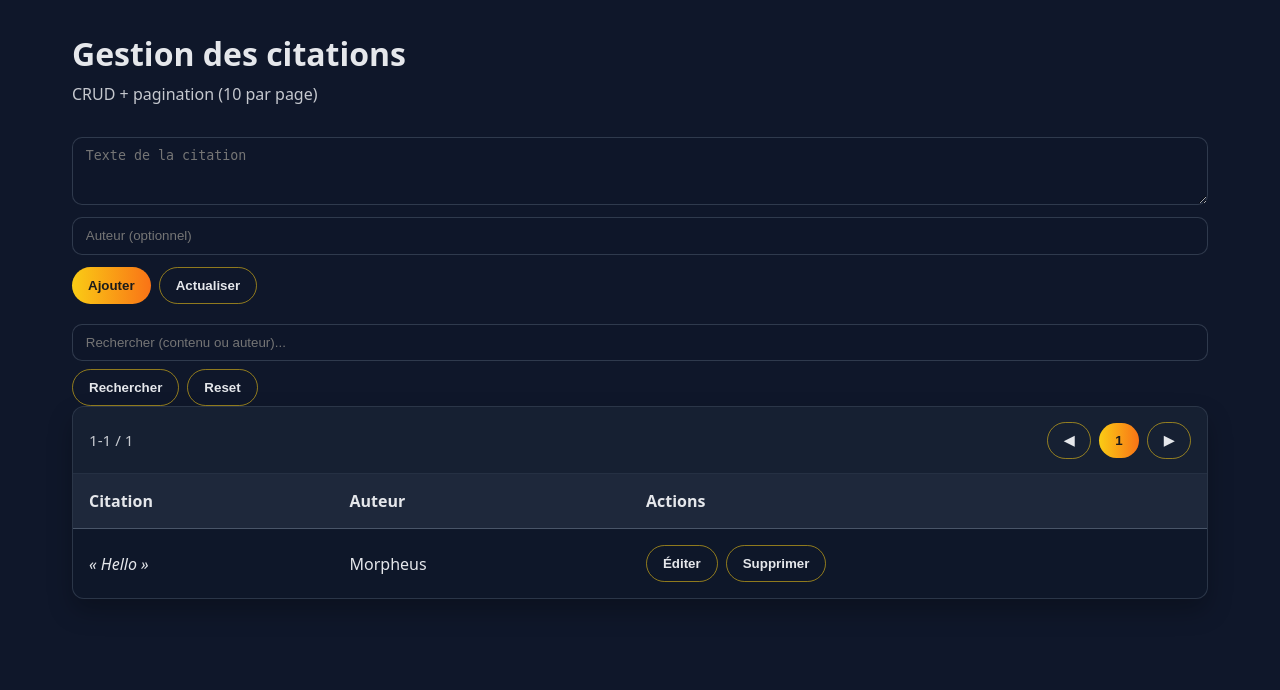
Test: QuotesPanel › edits a quote and handles update errors
The width and height of the screenshot is (1280, 690).
Click the button "Éditer" at (682, 564), box [646,545,718,582]
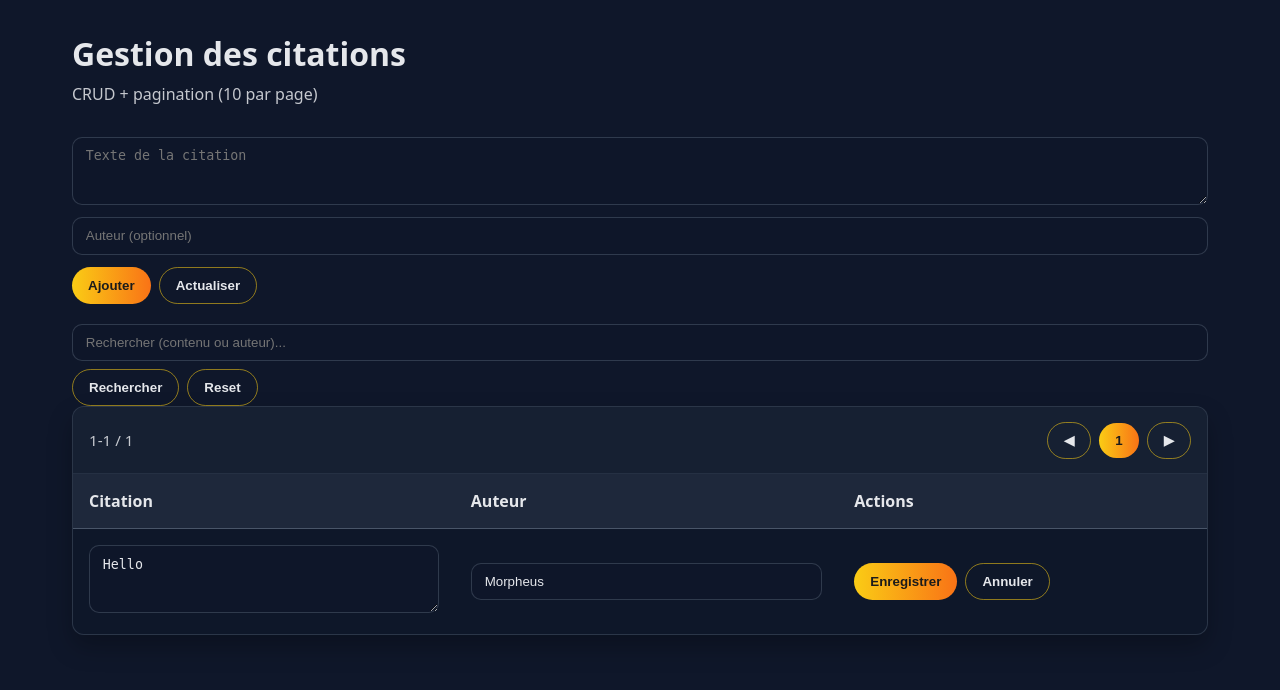
Replace the text in the text box showing "Hello" with "Updated" at (264, 579), box [89,545,439,613]
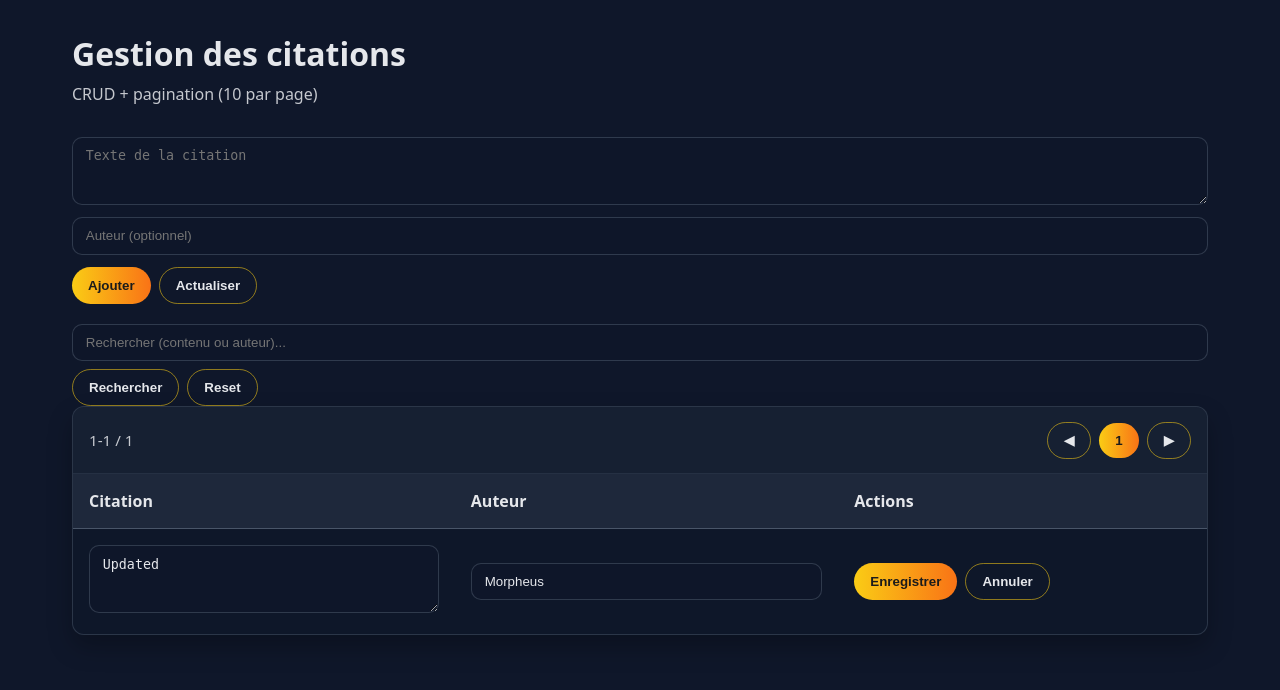
Replace the text in the field showing "Morpheus" with "Neo" at (647, 582), box [471,563,822,600]
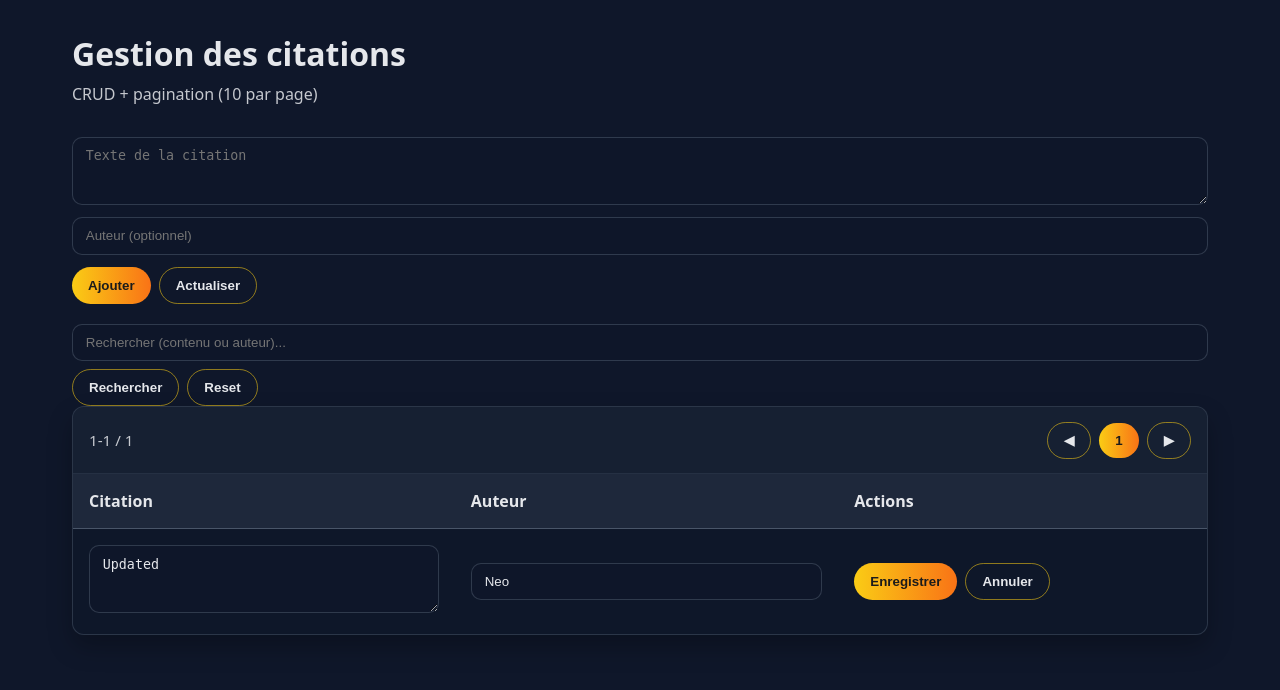
Click the button "Enregistrer" at (906, 582), box [854,563,957,600]
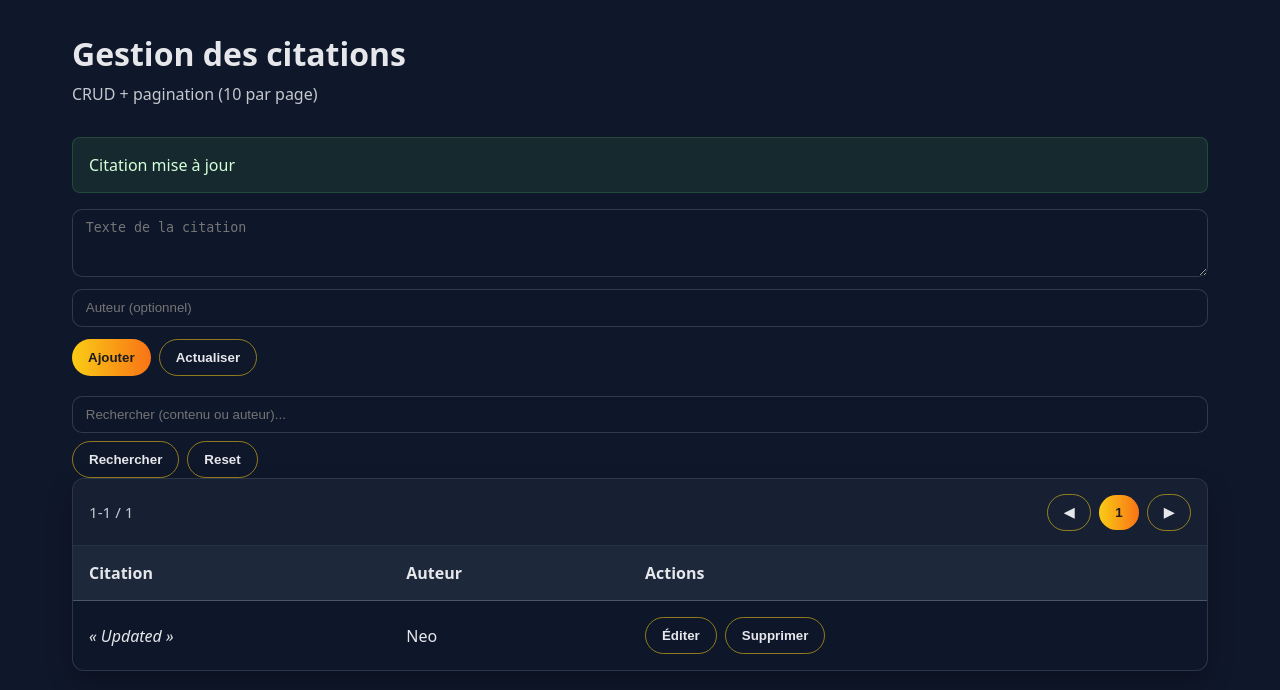
Click the button "Éditer" at (681, 636), box [645,617,717,654]
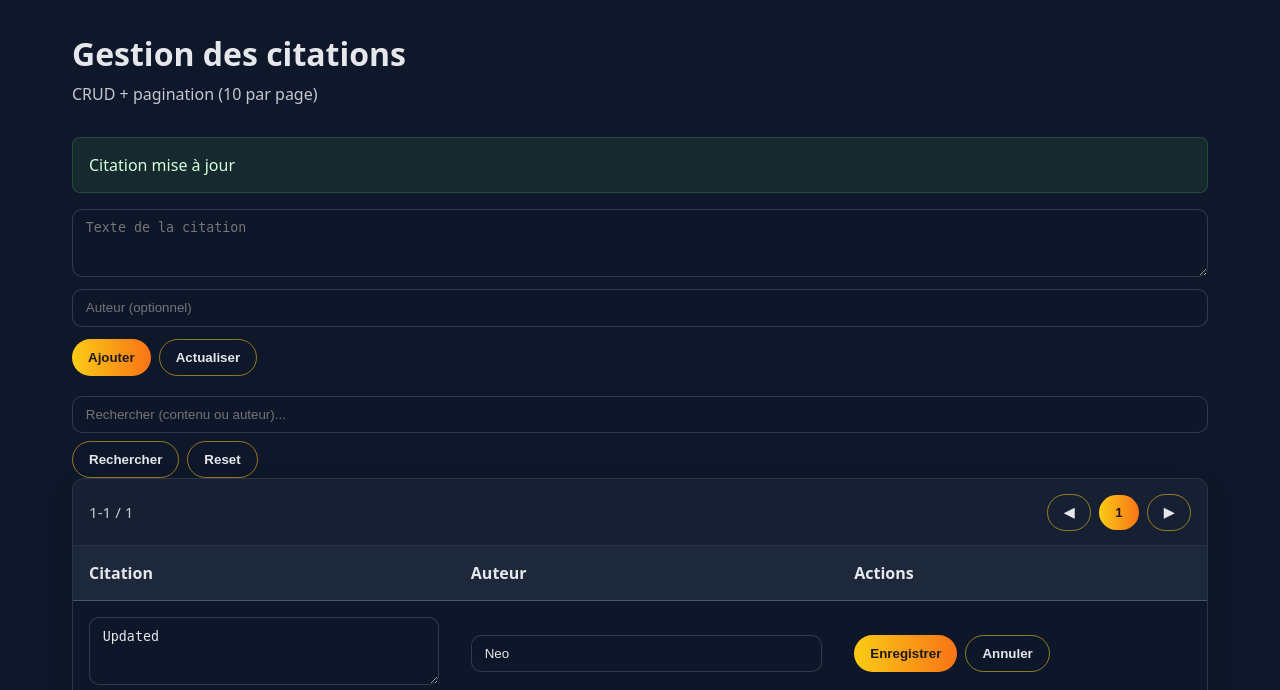
Click the button "Enregistrer" at (906, 654), box [854,635,957,672]
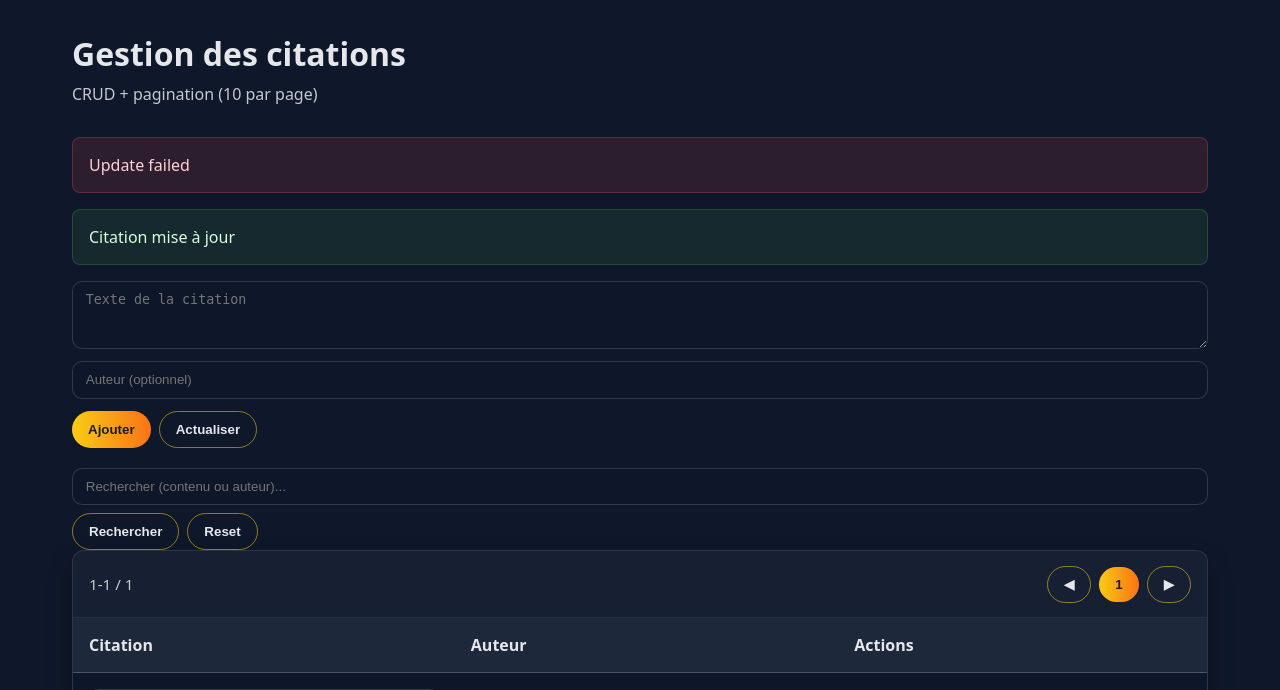
Expected: the text "Update failed" is shown, [72,137,1208,193]
